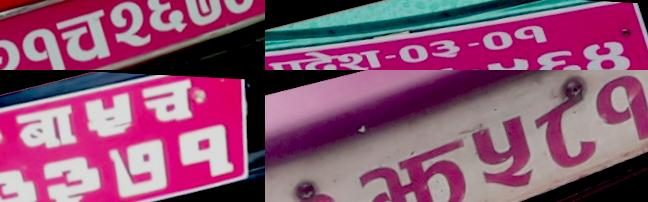0: (481, 22, 514, 51), (396, 37, 430, 65), (211, 0, 261, 14)
1: (171, 112, 248, 186), (583, 70, 648, 151), (16, 17, 71, 70), (282, 180, 363, 202), (513, 17, 547, 46)
2: (102, 0, 157, 53), (0, 27, 33, 70)
3: (38, 144, 112, 202), (0, 157, 45, 202), (428, 31, 462, 60)
4: (580, 24, 639, 70)
5: (464, 101, 548, 197), (81, 83, 144, 141)
6: (530, 34, 590, 70), (139, 0, 193, 38)
7: (105, 128, 181, 202), (174, 0, 228, 28), (436, 50, 494, 70)
8: (527, 83, 610, 174)
9: (483, 43, 540, 70)
ba: (12, 97, 85, 158)
cha: (52, 2, 118, 70), (135, 71, 206, 129)
jha: (352, 126, 490, 202)
